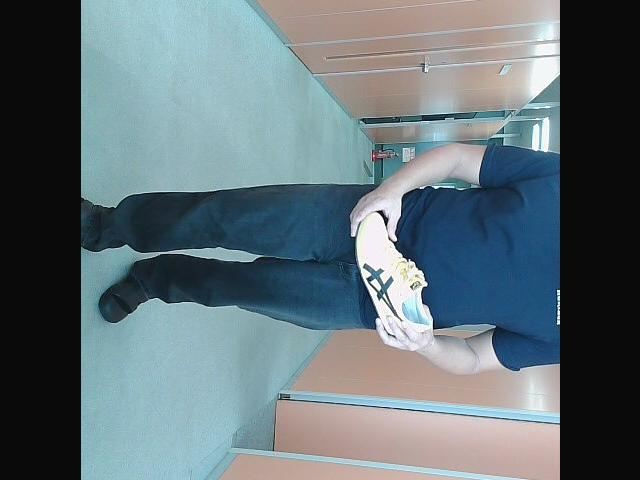Shoes: (349, 206, 435, 340)
